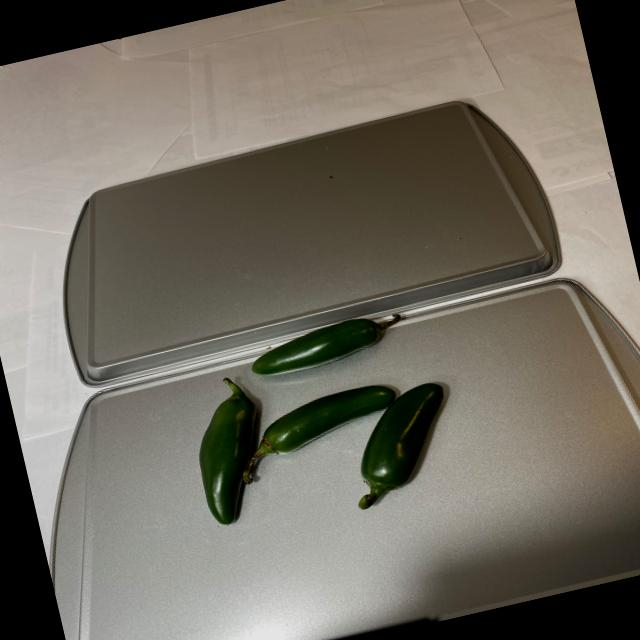chilli: (172, 298, 466, 542)
